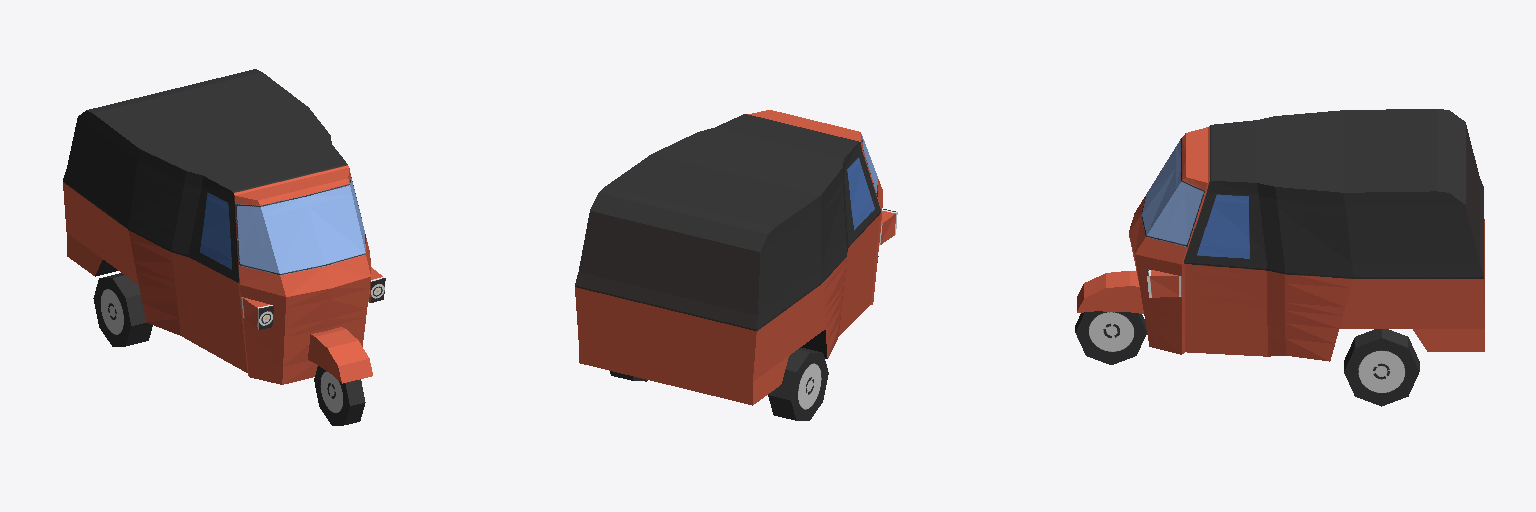
The picture shows the model from 3 angles: view 1: azimuth 30°, elevation 25°; view 2: azimuth 150°, elevation 25°; view 3: azimuth 270°, elevation 25°; orthographic projection.
Parts seen in each view (by area): view 1: Cube; view 2: Cube; view 3: Cube.
Boxes of the visible parts, <box> form: Cube: <box>63,69,385,425</box>; Cube: <box>575,110,897,420</box>; Cube: <box>1075,109,1484,406</box>.
Size of the model in its own units: 4.5 by 4.91 by 8.59.
1 materials, 1 textured.